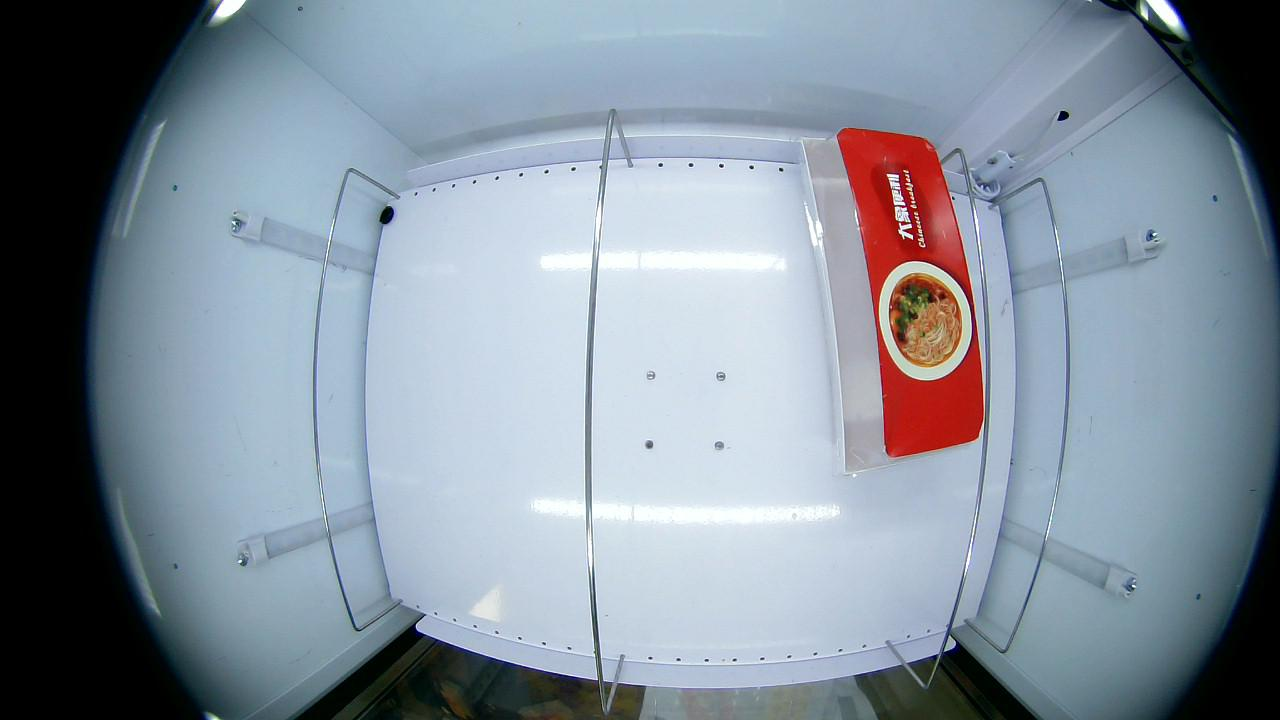goods: (878, 256, 977, 382)
